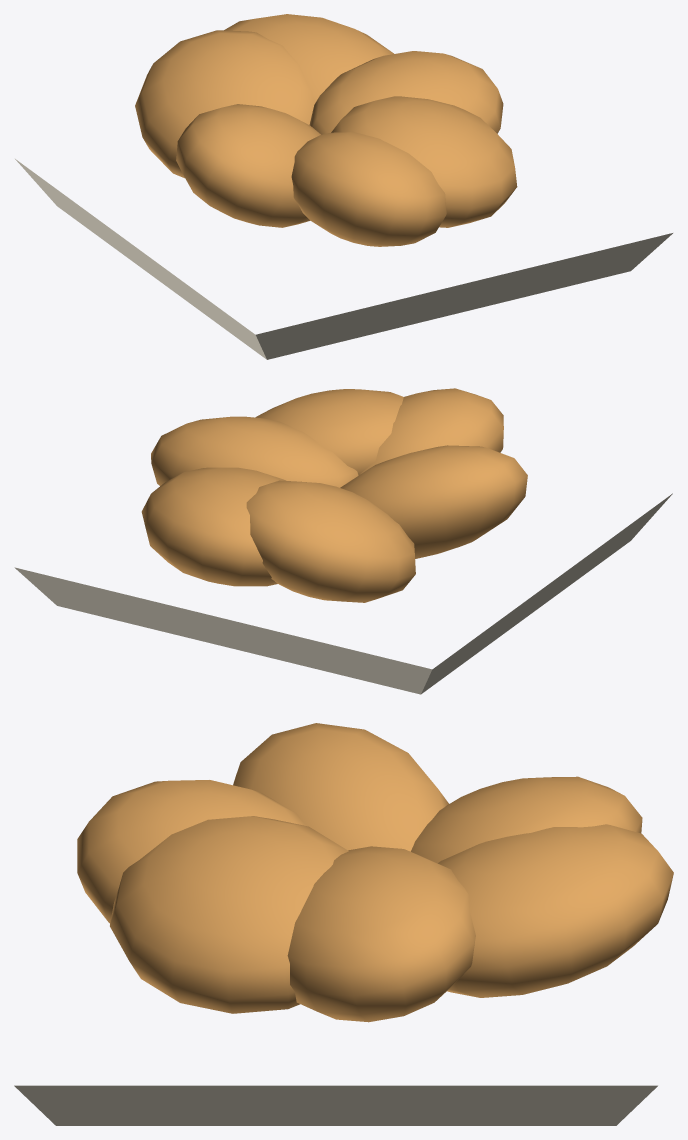
File: nuggets.glb
3 renders of one model, top to bottom at view 1: azimuth 30°, elevation 25°; view 2: azimuth 150°, elevation 25°; view 3: azimuth 270°, elevation 25°, orthographic. The views are drawn at different scales.
Visible parts, largest first — view 1: nuggets; view 2: nuggets; view 3: nuggets.
Part boxes in pixels (x1=…): nuggets: x1=15, y1=14, x2=672, y2=359; nuggets: x1=14, y1=388, x2=672, y2=694; nuggets: x1=14, y1=723, x2=673, y2=1125.
Bounding box in the file's own units: 0.1008 × 0.0337 × 0.1033.
